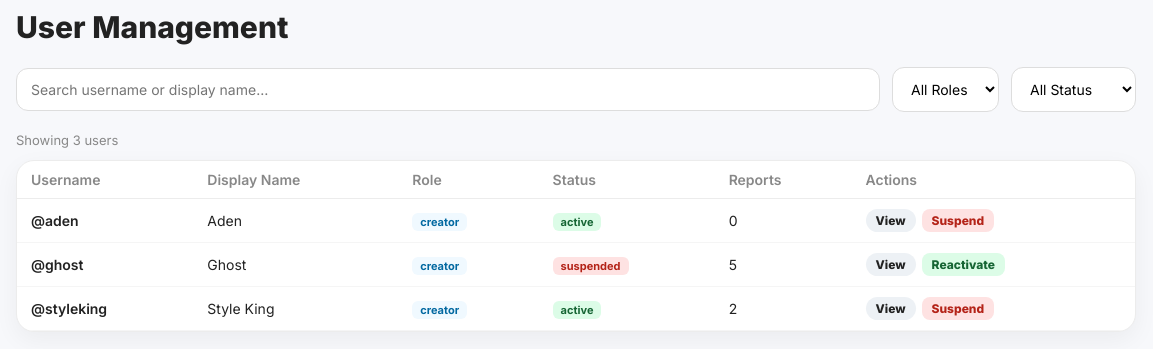
filters users by suspended status
Select "Suspended" in the 2nd dropdown at (1074, 90), box x1=1011 y1=67 x2=1136 y2=112
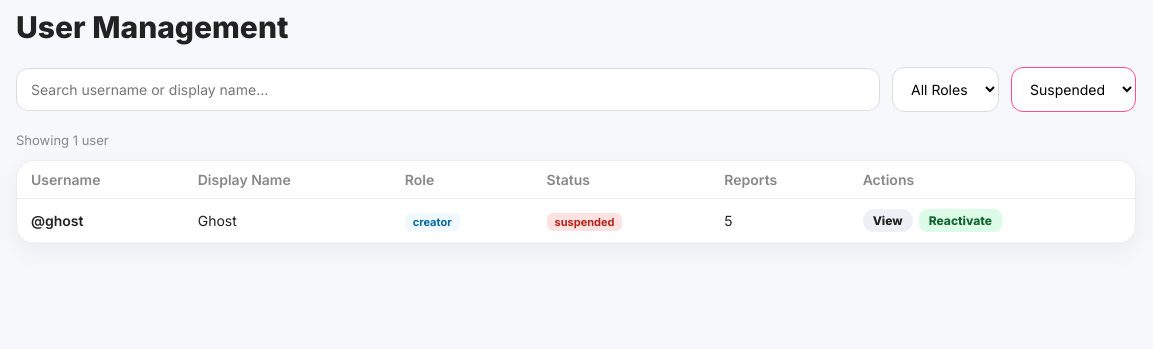
Check: the text "@ghost" is shown, box x1=17 y1=198 x2=184 y2=242
Check: the text "@aden" is gone
